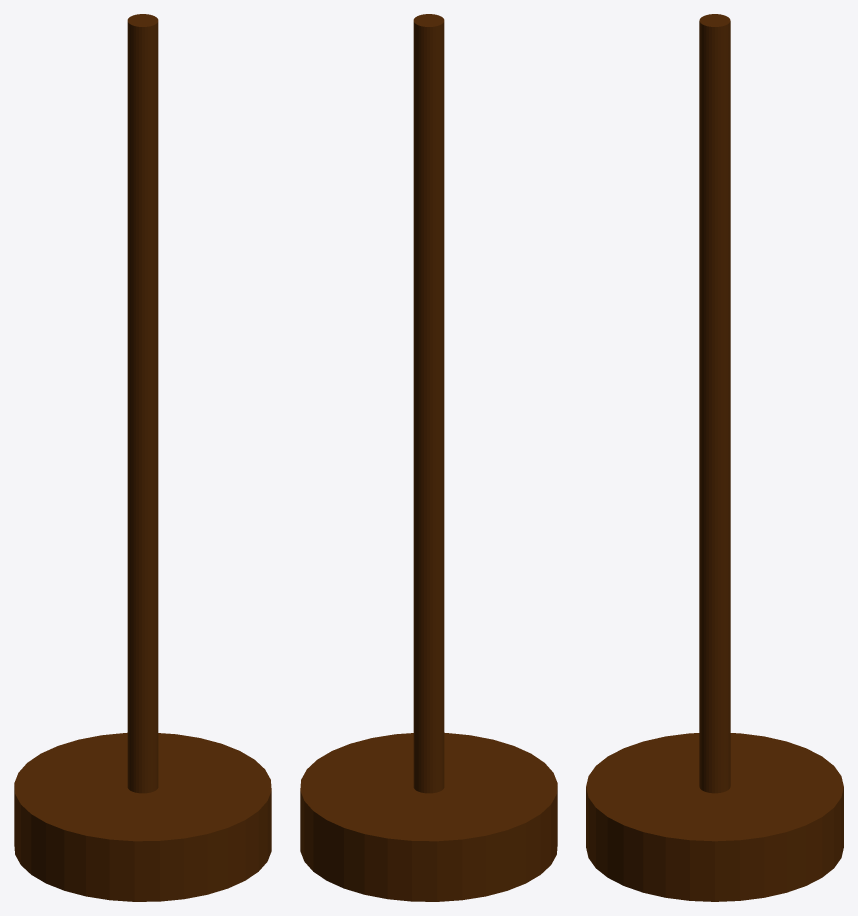
Rendered from stand.gltf.
3 renders of one model, left to right at view 1: azimuth 30°, elevation 25°; view 2: azimuth 150°, elevation 25°; view 3: azimuth 270°, elevation 25°, orthographic.
Parts seen in each view (by area): view 1: Cylinder.001; view 2: Cylinder.001; view 3: Cylinder.001.
Part boxes in pixels (box(x1,y1,x2,y2)): Cylinder.001: box(14, 14, 271, 901); Cylinder.001: box(300, 14, 557, 901); Cylinder.001: box(586, 14, 843, 901).
Bounding box in the file's own units: 1.09 × 3.86 × 1.09.
